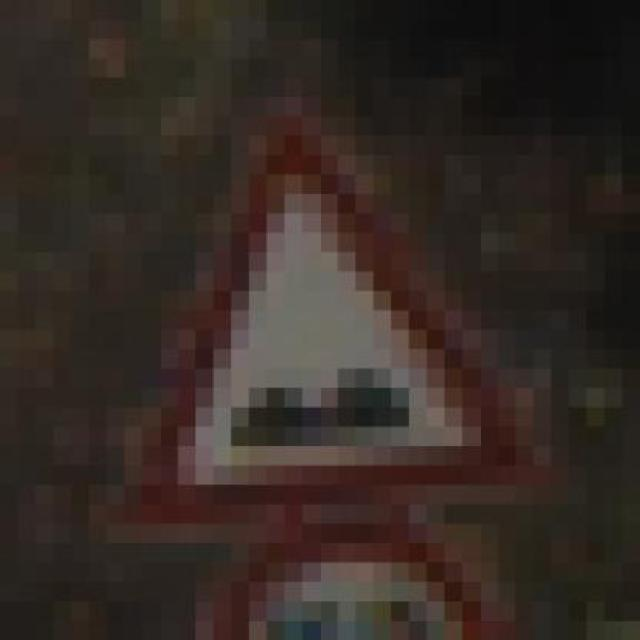Uneven Road: (107, 116, 551, 562)
